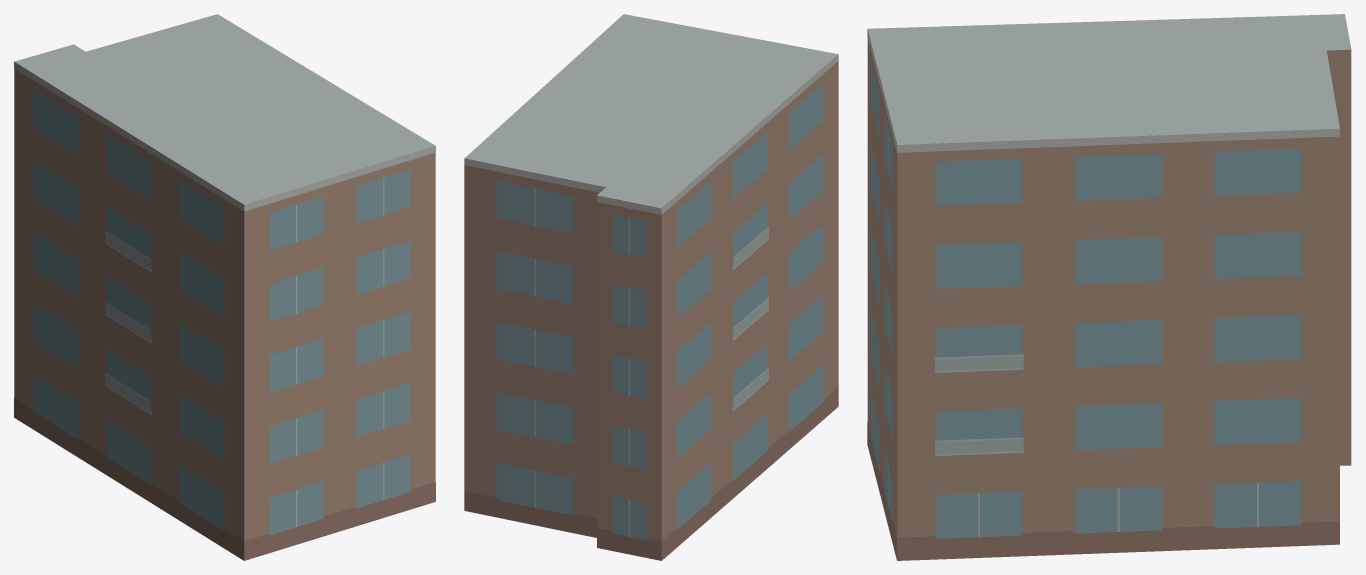
File: survey-upis-32746676.glb
3 renders of one model, left to right at view 1: azimuth 30°, elevation 25°; view 2: azimuth 150°, elevation 25°; view 3: azimuth 270°, elevation 25°, orthographic. The views are drawn at different scales.
Parts seen in each view (by area): view 1: survey-upis-32746676.tmp; view 2: survey-upis-32746676.tmp; view 3: survey-upis-32746676.tmp.
Part boxes in pixels (left/top/right/bottom): survey-upis-32746676.tmp: left=14, top=14, right=435, bottom=560; survey-upis-32746676.tmp: left=464, top=14, right=838, bottom=560; survey-upis-32746676.tmp: left=867, top=14, right=1351, bottom=560.
Size of the model in its own units: 8.8 by 13 by 13.72.
